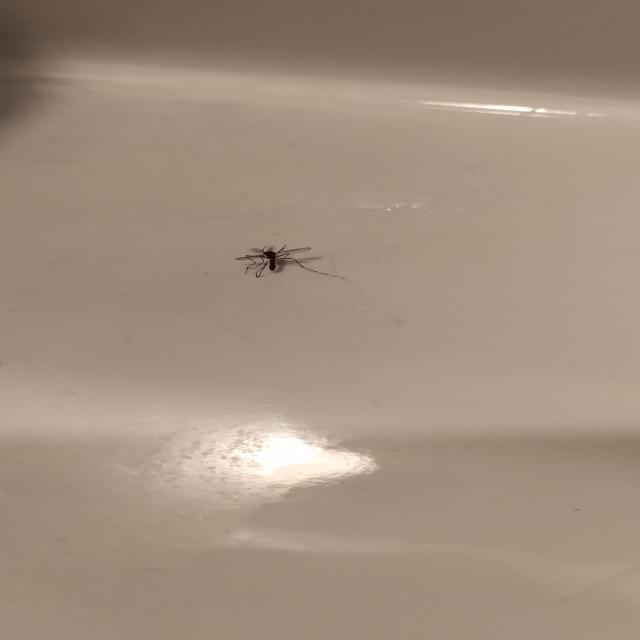albopictus: (232, 240, 352, 287)
